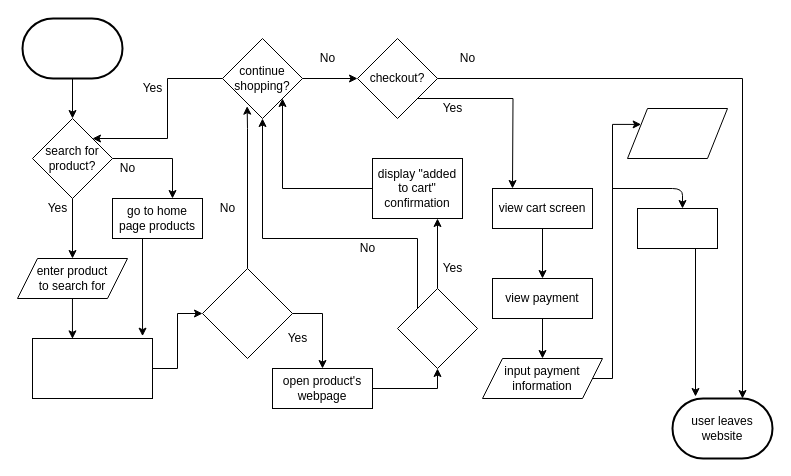
The diagram is 791 pixels wide and 476 high, and some of its shapes have lost their labels. Here are the shapes that lost their labels. From the top down, the centre of each, then its label:
At (x=72, y=48): "user enters website".
At (x=677, y=133): "send confirmation email".
At (x=677, y=228): "confirmation screen".
At (x=247, y=313): "view specific product?".
At (x=437, y=328): "add item to cart?".
At (x=92, y=368): "look over products".
